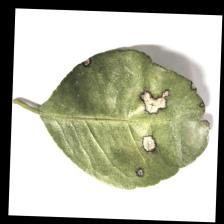canker: (80, 52, 216, 179)
